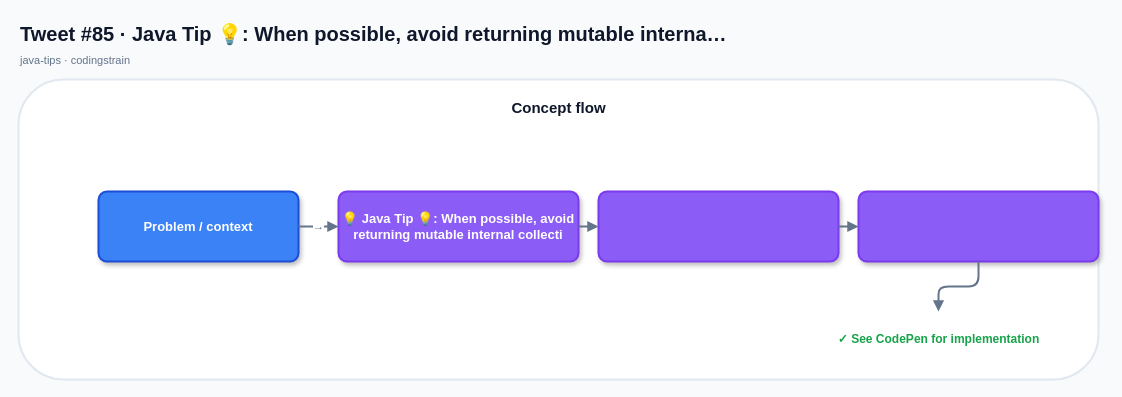
The diagram is 1122 pixels wide and 397 high, and some of its shapes have lost their labels. The centre of each missing label's shape, as x and y in pixels:
1) You don't expose internal state, improving security: the point at 979,227
Java Tip 💡: When possible, avoid returning mutable internal collection: the point at 719,227
